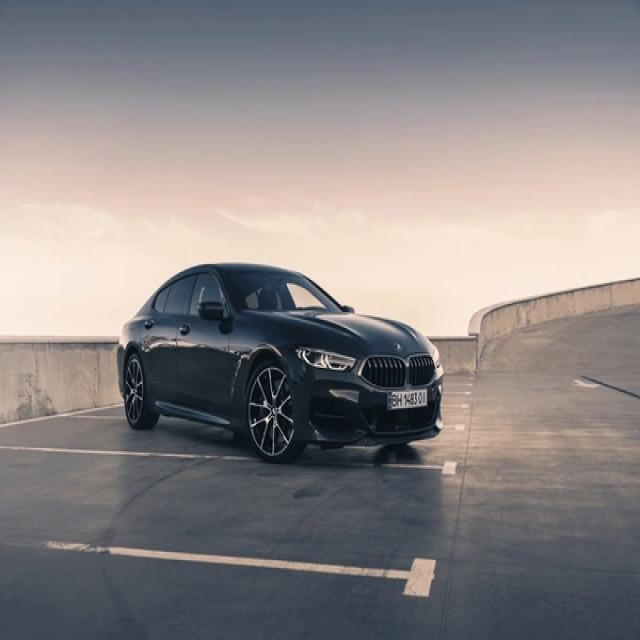bmw: (393, 337, 404, 357)
